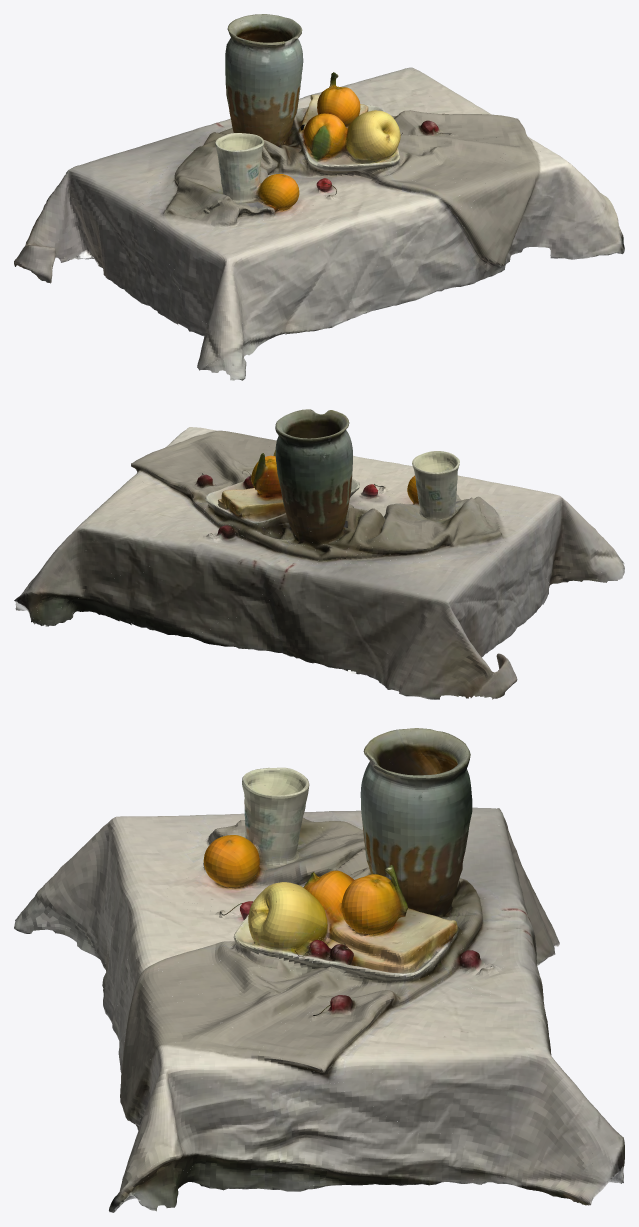
The model's file is 静物_其它_陶罐水果组合07_opt.glb.
3 renders of one model, top to bottom at view 1: azimuth 30°, elevation 25°; view 2: azimuth 150°, elevation 25°; view 3: azimuth 270°, elevation 25°, orthographic. The views are drawn at different scales.
Visible parts, largest first — view 1: surfaceShader1SG_2, surfaceShader1SG, surfaceShader1SG_4; view 2: surfaceShader1SG_4, surfaceShader1SG_2, surfaceShader1SG; view 3: surfaceShader1SG, surfaceShader1SG_4, surfaceShader1SG_2.
Part boxes in pixels (x1,y1,x2,y2): surfaceShader1SG_2: [137, 14, 491, 380]; surfaceShader1SG: [14, 15, 624, 379]; surfaceShader1SG_4: [14, 29, 624, 336]; surfaceShader1SG_4: [14, 409, 564, 699]; surfaceShader1SG_2: [45, 423, 624, 637]; surfaceShader1SG: [14, 409, 624, 698]; surfaceShader1SG: [14, 728, 624, 1212]; surfaceShader1SG_4: [103, 731, 624, 1210]; surfaceShader1SG_2: [14, 742, 551, 1186].
Size of the model in its own units: 1.44 by 0.6 by 1.13.
Materials: 1 (1 with a texture image).
